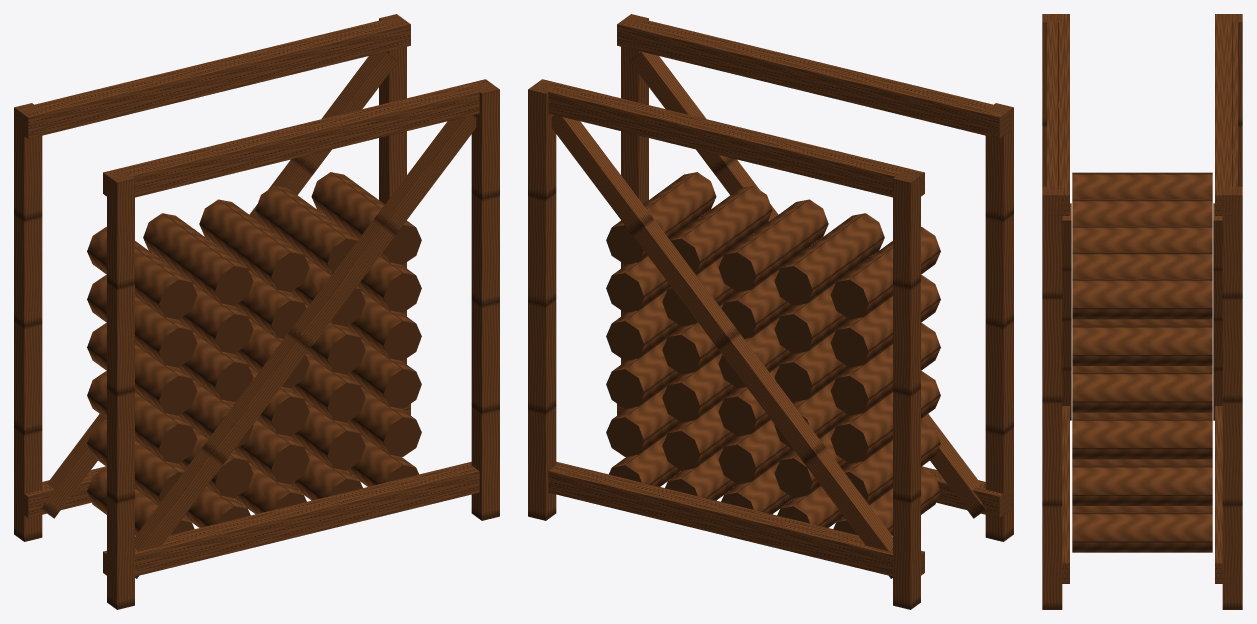
Rendered from rural-scavenging-settlements-firewood-bay-120163f3__26617.glb.
3 renders of one model, left to right at view 1: azimuth 30°, elevation 25°; view 2: azimuth 150°, elevation 25°; view 3: azimuth 270°, elevation 25°, orthographic. The views are drawn at different scales.
Parts seen in each view (by area): view 1: firewood-bay; view 2: firewood-bay; view 3: firewood-bay.
Boxes of the visible parts, <box> form: firewood-bay: <box>14,14,499,609</box>; firewood-bay: <box>528,14,1013,609</box>; firewood-bay: <box>1042,14,1242,609</box>.
Size of the model in its own units: 1.5 by 1.6 by 0.7001.
1 material, 1 textured.
